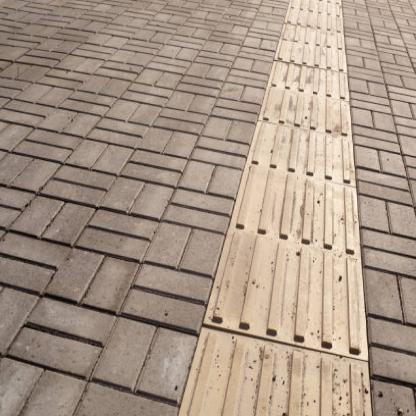podotacti: (179, 0, 373, 416)
